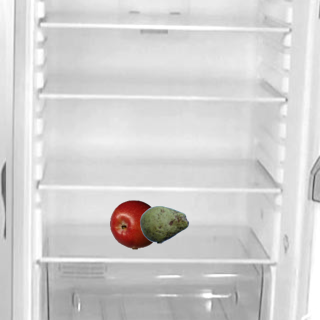Apple Braeburn: (109, 199, 159, 249)
Pear Stone: (139, 199, 189, 249)
